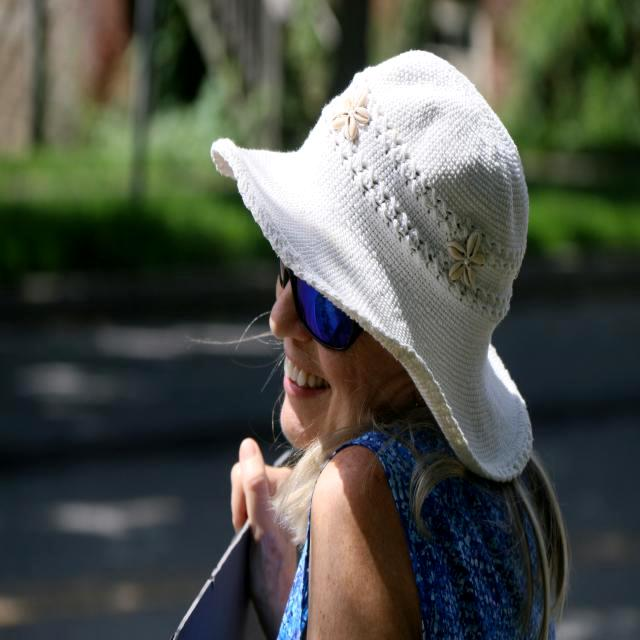no_hard_hat: (211, 51, 531, 481)
person: (201, 42, 563, 640)
